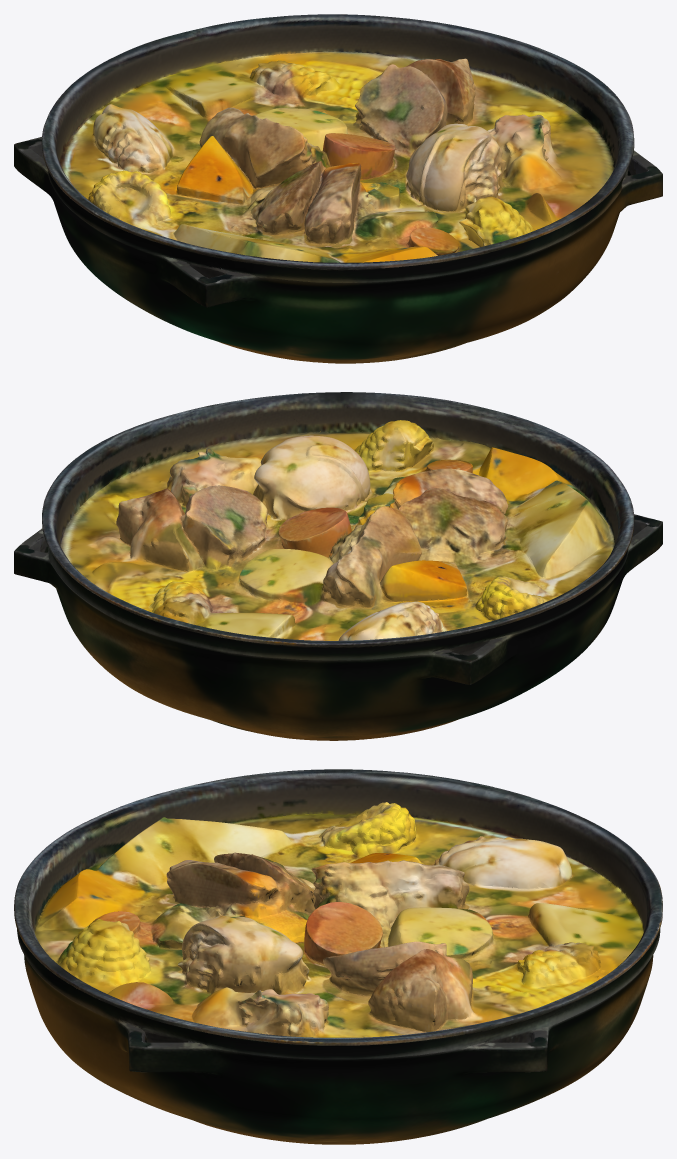
File: sancocho.glb
3 renders of one model, top to bottom at view 1: azimuth 30°, elevation 25°; view 2: azimuth 150°, elevation 25°; view 3: azimuth 270°, elevation 25°, orthographic. The views are drawn at different scales.
Parts seen in each view (by area): view 1: model; view 2: model; view 3: model.
Part boxes in pixels (box(x1,y1,x2,y2)): model: box(14, 14, 662, 363); model: box(14, 392, 662, 740); model: box(14, 769, 662, 1144).
Bounding box in the file's own units: 1.9 × 0.584 × 1.9.
1 material, 1 textured.
